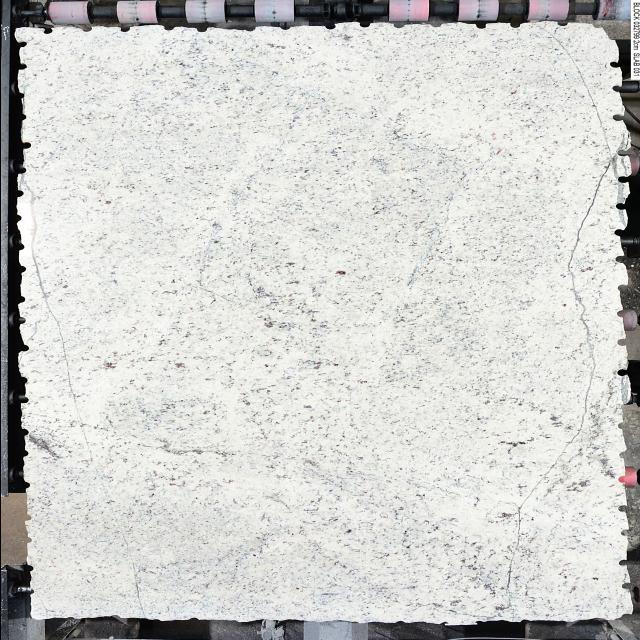furo: (578, 20, 622, 52)
veio: (508, 19, 530, 32), (552, 18, 572, 31), (610, 226, 626, 242), (156, 23, 178, 34), (14, 393, 32, 406), (610, 366, 633, 376), (608, 111, 624, 125), (472, 19, 489, 32), (425, 20, 447, 30), (320, 22, 342, 32), (118, 22, 136, 34), (612, 253, 626, 268), (615, 336, 632, 348), (194, 24, 214, 34), (354, 21, 376, 30), (13, 188, 27, 202), (21, 512, 35, 526), (616, 448, 630, 462), (13, 165, 27, 178), (17, 341, 31, 354), (18, 480, 36, 490), (614, 176, 630, 187), (16, 61, 30, 73), (14, 241, 28, 253), (614, 282, 628, 294), (616, 502, 630, 514), (392, 20, 408, 30), (16, 427, 32, 437), (614, 148, 630, 158), (618, 528, 634, 538), (614, 559, 630, 569), (14, 294, 27, 306), (616, 474, 630, 485), (74, 26, 98, 32), (24, 564, 36, 576), (40, 26, 54, 36), (608, 60, 622, 70), (613, 202, 627, 212), (17, 141, 34, 149), (19, 447, 31, 457), (616, 420, 626, 432), (18, 375, 31, 384), (14, 40, 28, 48), (610, 83, 624, 91), (620, 580, 634, 588), (615, 309, 625, 319), (23, 536, 35, 544)
